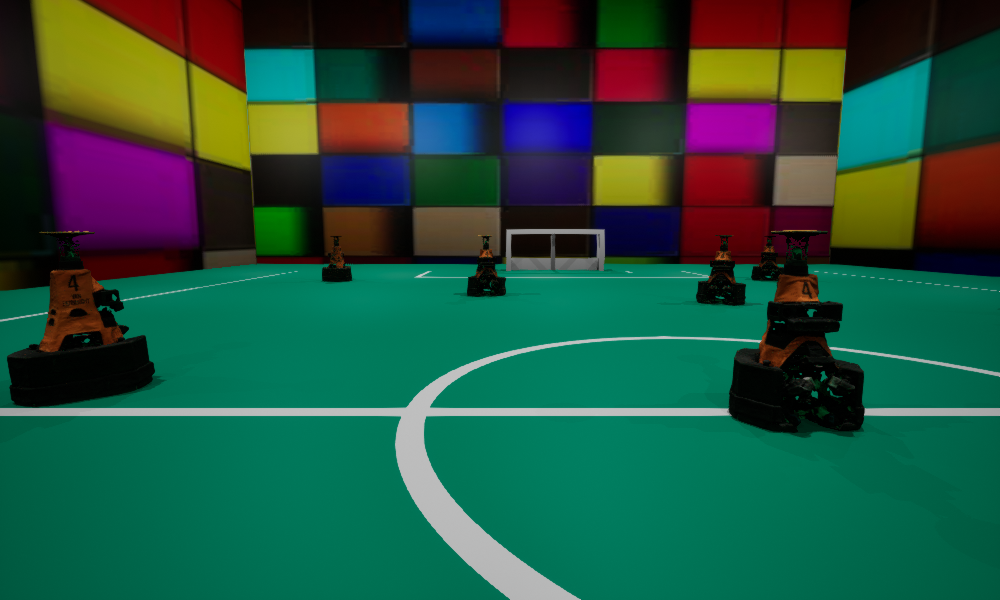o: (729, 230, 864, 432), (7, 231, 154, 406), (696, 235, 745, 304), (467, 235, 505, 296), (751, 236, 782, 280), (322, 236, 351, 281)
